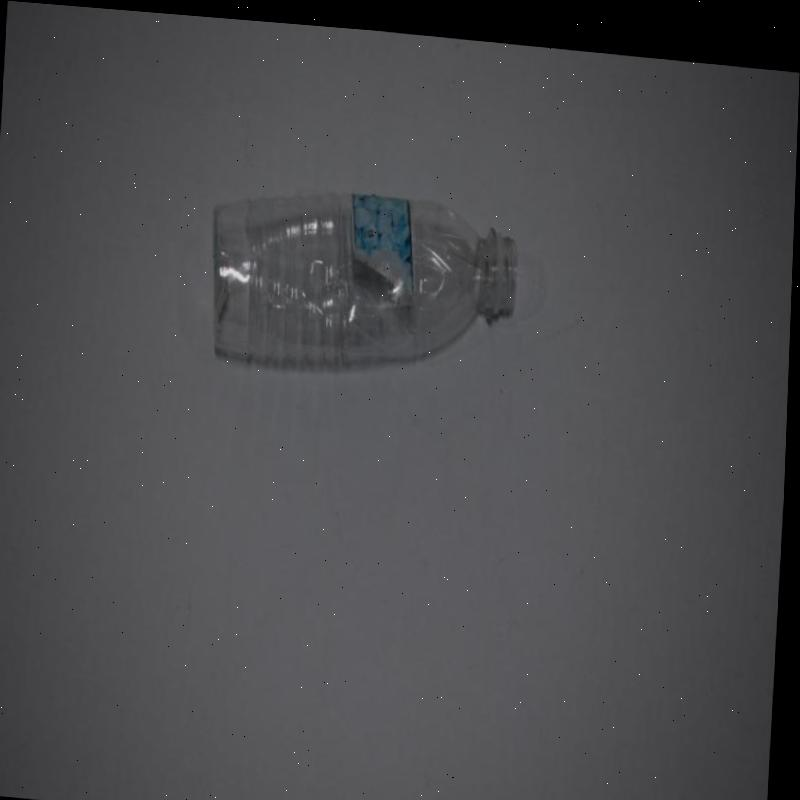botella: (204, 168, 522, 383)
